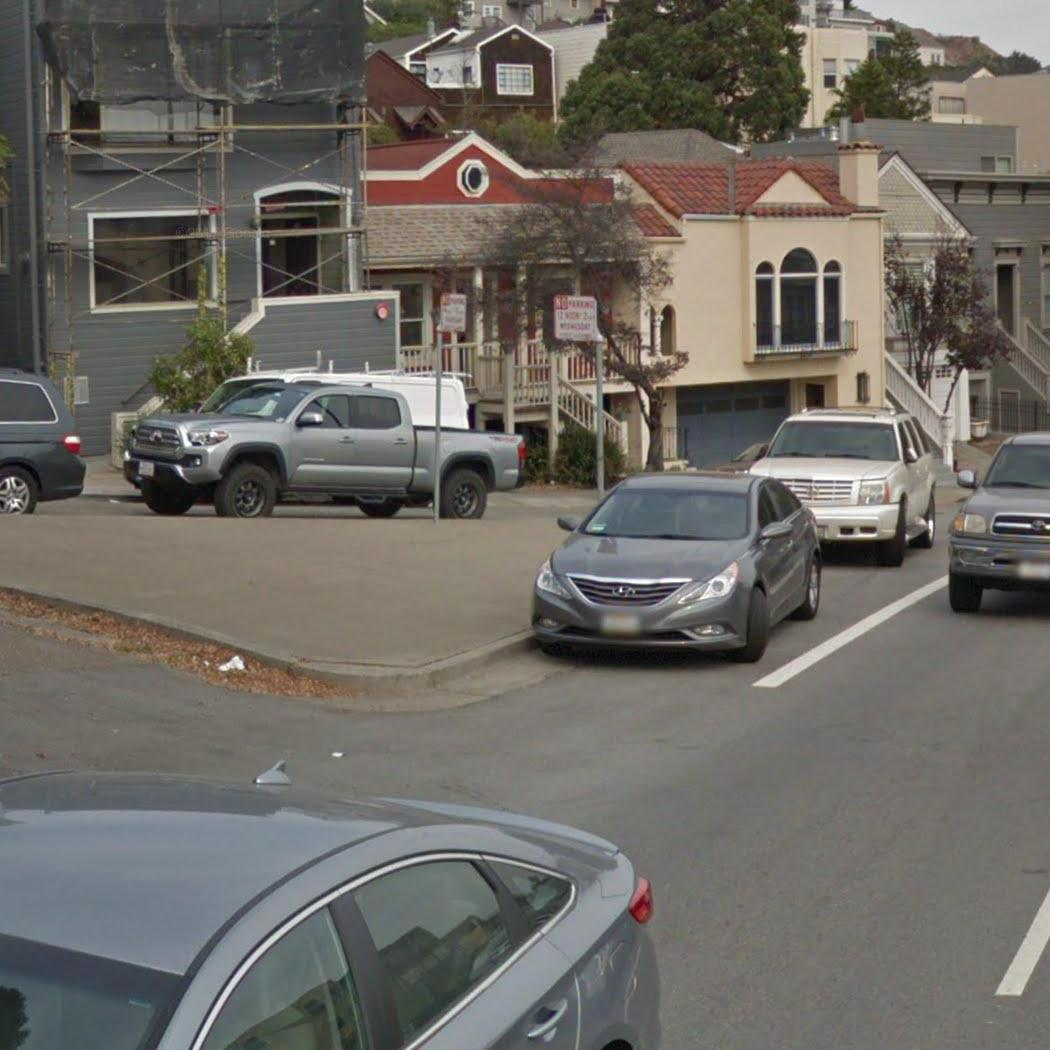No Parking: (553, 295, 599, 344), (437, 289, 470, 338)
